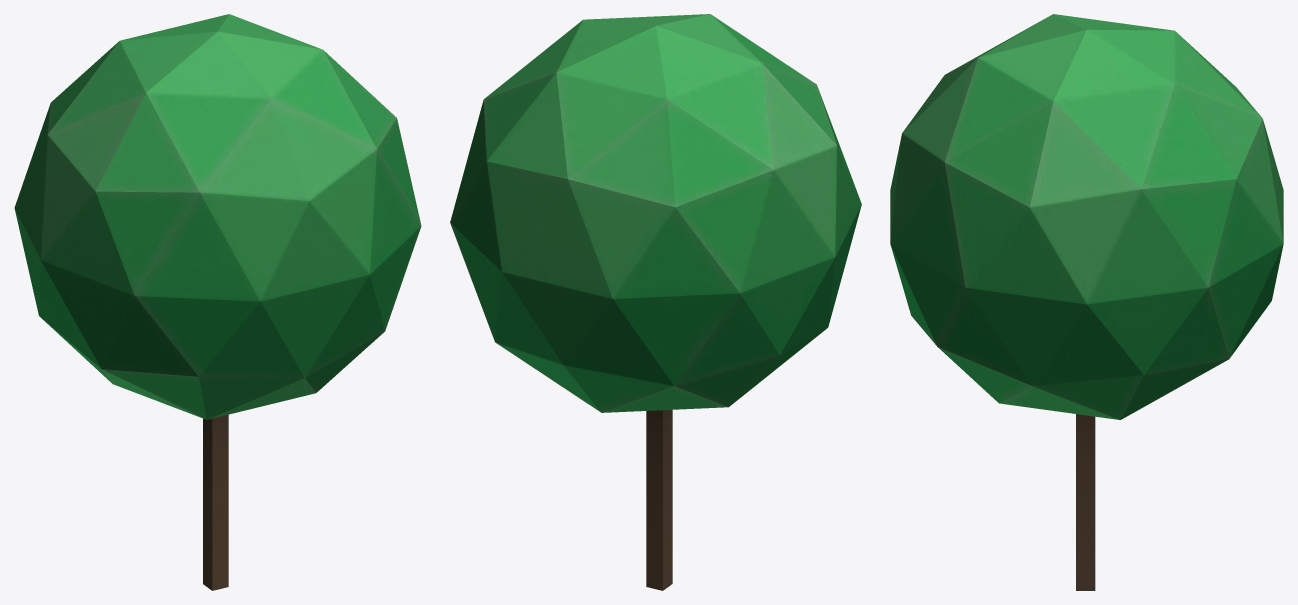
The model's file is Tree_poly01.gltf.
3 views of the same model, side by side, from view 1: azimuth 30°, elevation 25°; view 2: azimuth 150°, elevation 25°; view 3: azimuth 270°, elevation 25° (orthographic).
Visible parts, largest first — view 1: metalTree_poly01; view 2: metalTree_poly01; view 3: metalTree_poly01.
Part boxes in pixels (left/top/right/bottom): metalTree_poly01: left=14, top=14, right=421, bottom=590; metalTree_poly01: left=450, top=14, right=861, bottom=590; metalTree_poly01: left=890, top=14, right=1283, bottom=590.
Size of the model in its own units: 44.66 by 66.57 by 42.48.
Materials: 1 (1 with a texture image).
